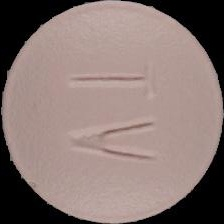0179-1899: (0, 0, 224, 224)
